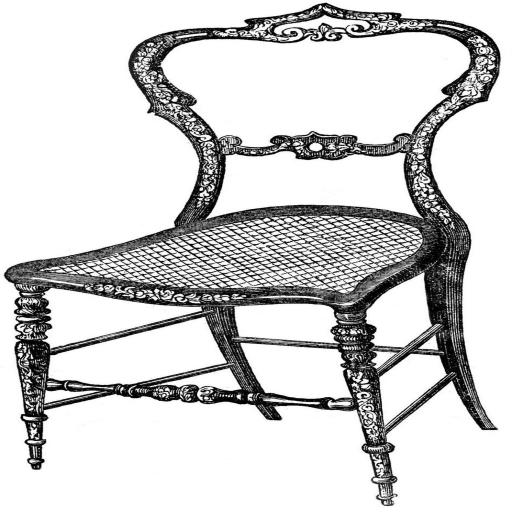chair: (4, 3, 500, 506)
